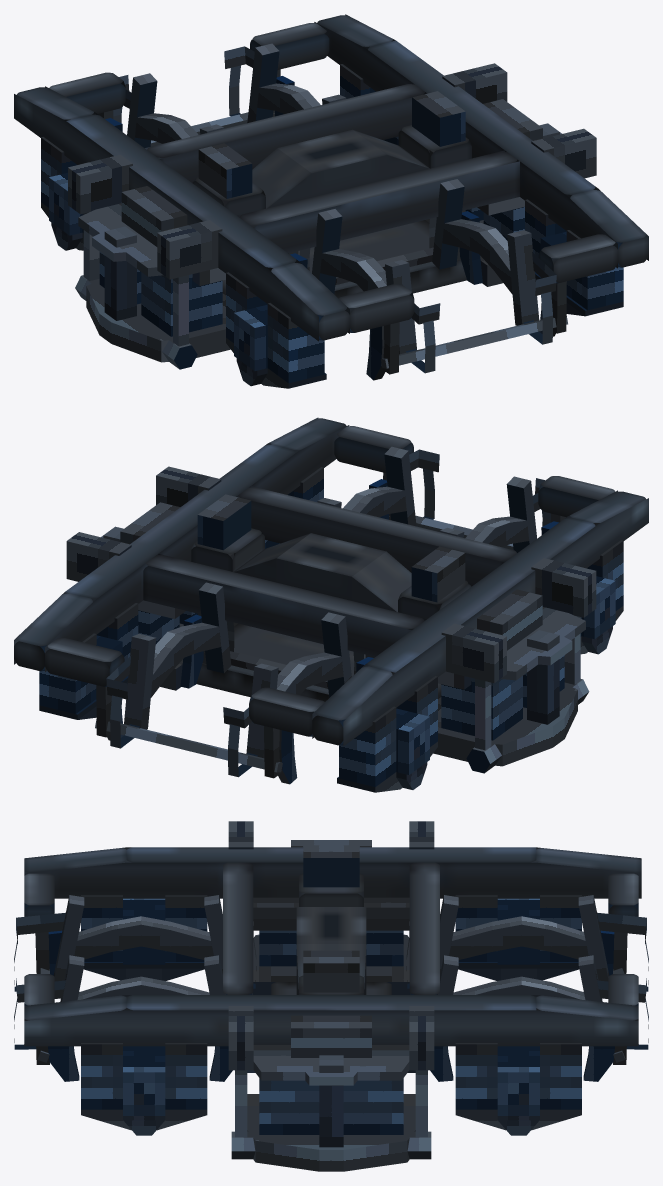
File: tkz2_frame.obj
The picture shows the model from 3 angles, top to bottom: view 1: azimuth 30°, elevation 25°; view 2: azimuth 150°, elevation 25°; view 3: azimuth 270°, elevation 25°; orthographic projection.
Parts seen in each view (by area): view 1: cube_selection; view 2: cube_selection; view 3: cube_selection.
Part boxes in pixels (x1,y1,x2,y2): cube_selection: [14, 14, 648, 388]; cube_selection: [14, 417, 648, 792]; cube_selection: [14, 821, 648, 1171].
Bounding box in the file's own units: 2.78 × 0.8906 × 3.3.
